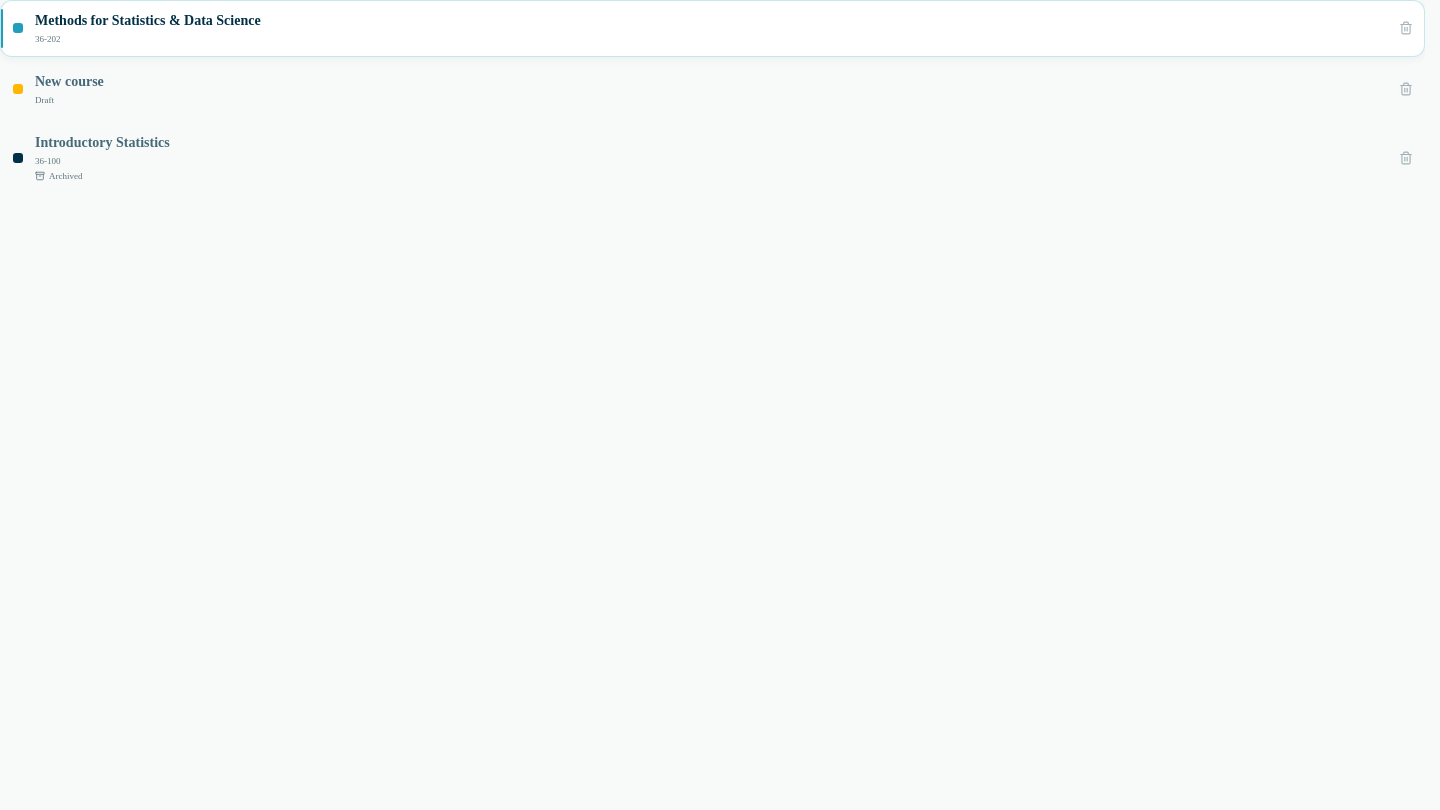
Test: CourseSidebarList › deletes the selected course after confirmation and leaves its stale route
Click the button named "Delete Methods for Statistics & Data Science". click: [1406, 28]
box: [1394,16,1418,40]
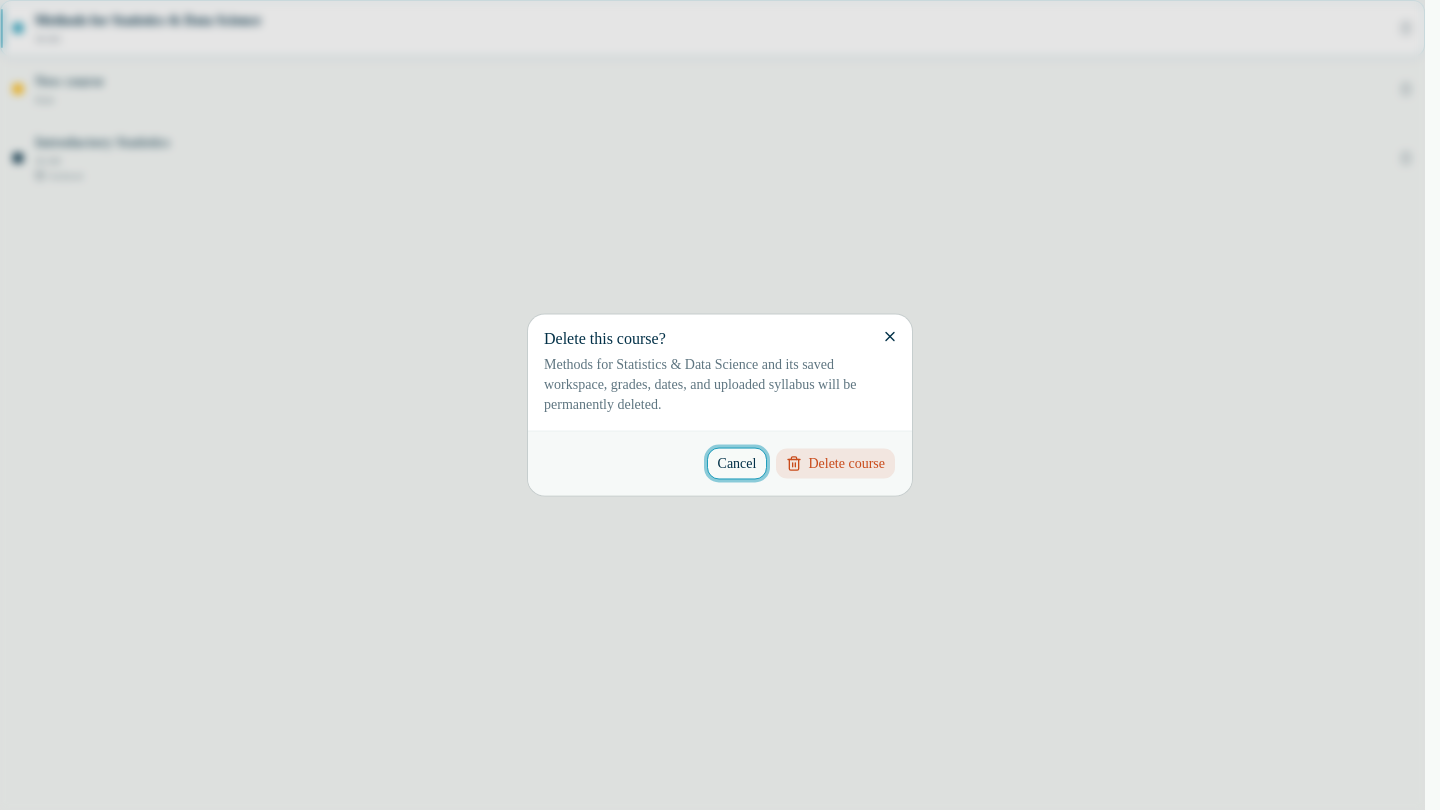
Expected: the dialog is shown, [528,314,912,496]
Click the button "Delete course". click: [836, 464]
box: [775,448,896,480]
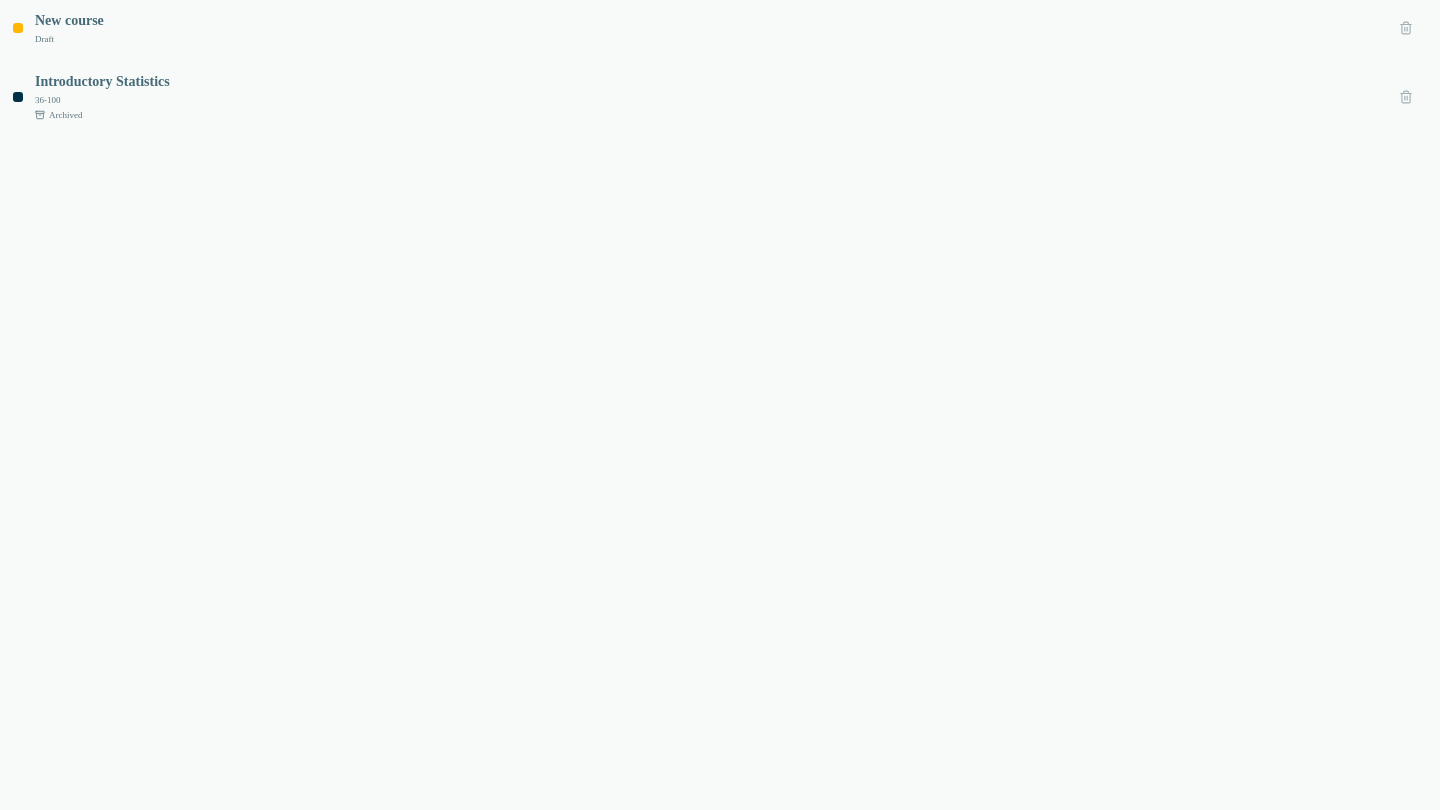
Expected: the link "Methods for Statistics & Data Science" is gone
